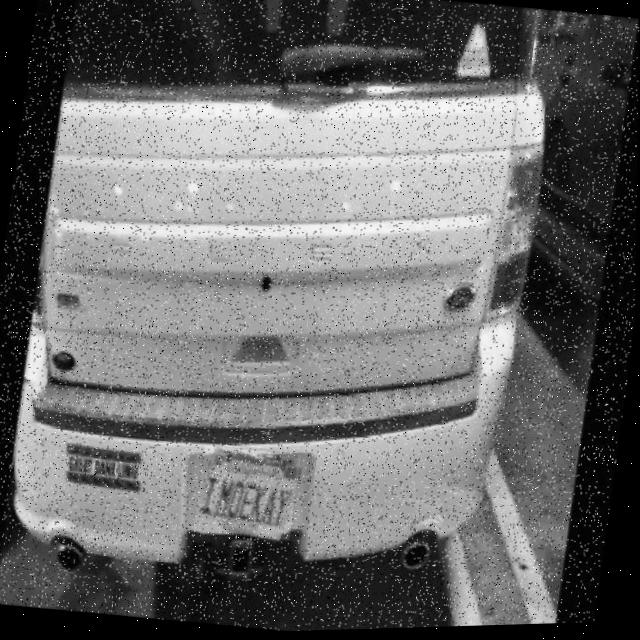LicensePlate: (194, 445, 302, 545)
